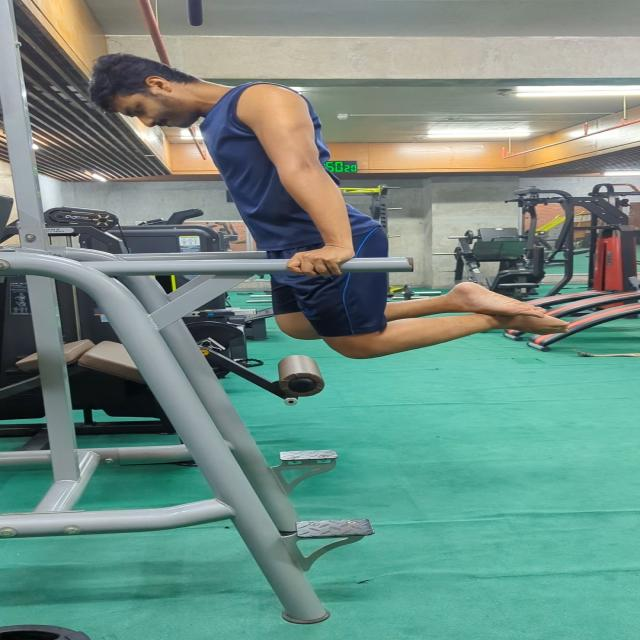Normal_Dips: (77, 52, 590, 365)
